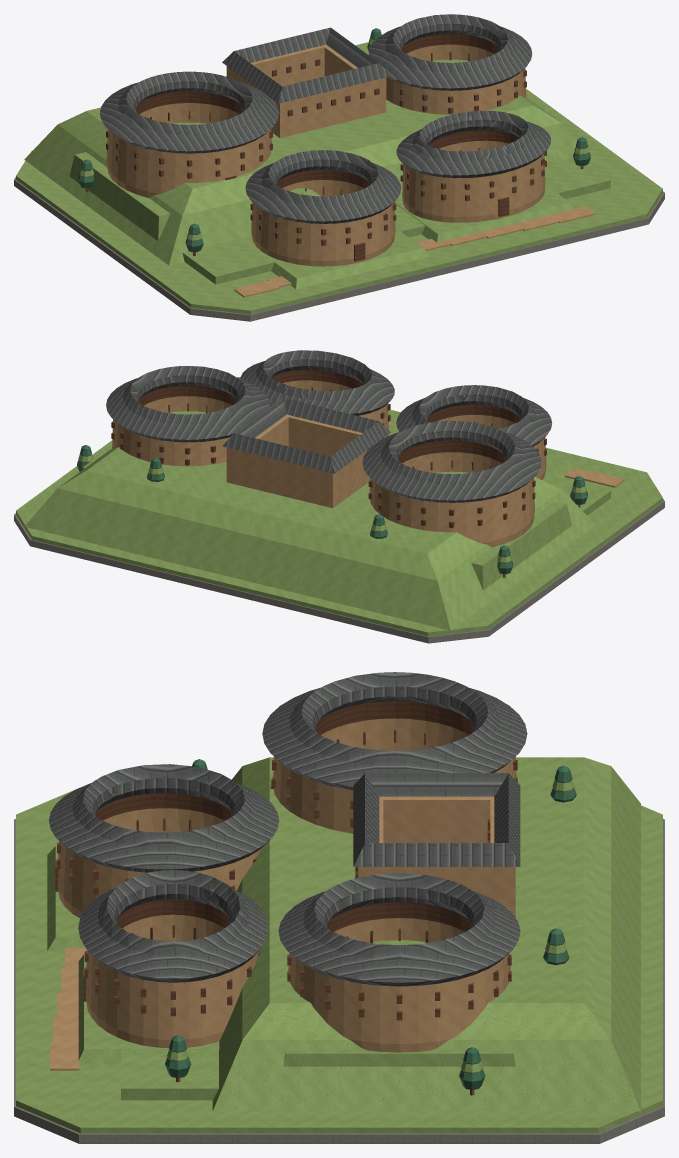
Rendered from fujian-tulou.glb.
3 views of the same model, one above another, from view 1: azimuth 30°, elevation 25°; view 2: azimuth 150°, elevation 25°; view 3: azimuth 270°, elevation 25° (orthographic). The views are drawn at different scales.
Parts seen in each view (by area): view 1: 福建土楼·田螺坑; view 2: 福建土楼·田螺坑; view 3: 福建土楼·田螺坑.
Boxes of the visible parts, x1,y1,x2,y2 form: 福建土楼·田螺坑: (14, 14, 664, 321); 福建土楼·田螺坑: (14, 350, 664, 643); 福建土楼·田螺坑: (14, 672, 664, 1143).
Size of the model in its own units: 12.15 by 2.75 by 9.76.
Materials: 7 (7 with a texture image).
